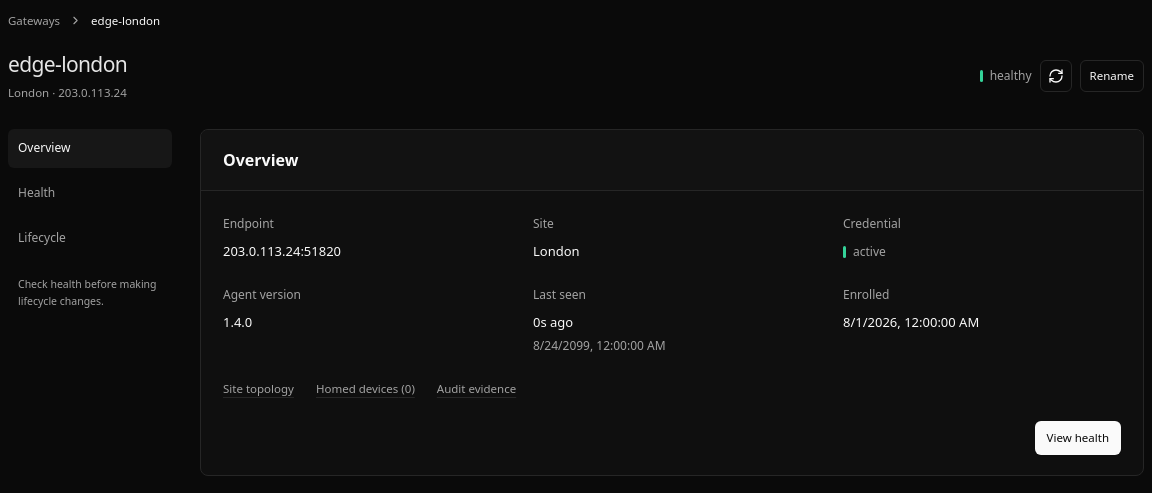
Scenario: S20 Gateway detail lifecycle › exposes rename/revoke only for an authorized active gateway
Expected: the button "Rename" is shown, [1080, 60, 1144, 92]
What coordinates should you click on to do the following:
click the button "Lifecycle"
I would click on:
 (90, 238)
Its box is [8, 219, 172, 258].
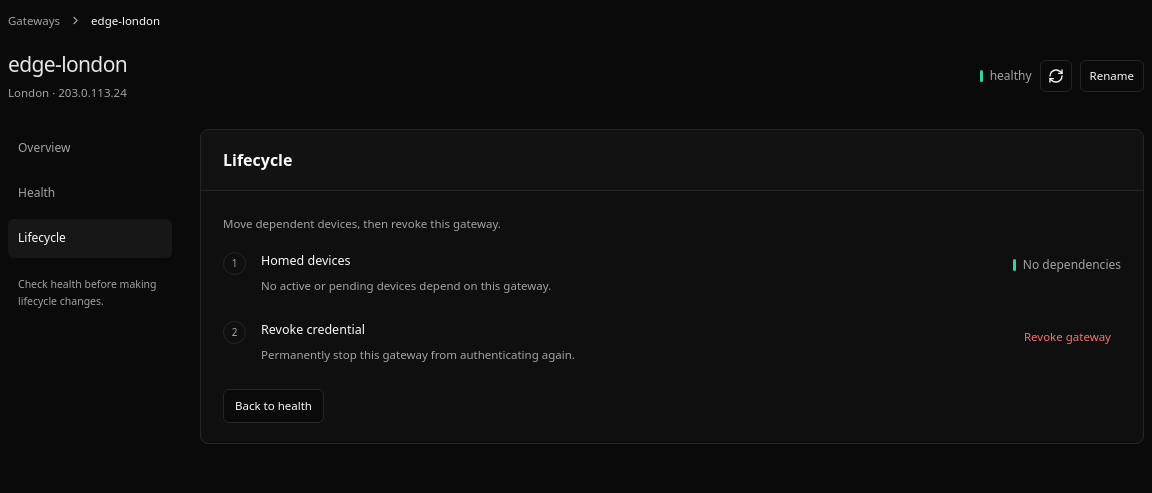
Expected: the button "Revoke gateway" is shown, [1014, 322, 1121, 354]
